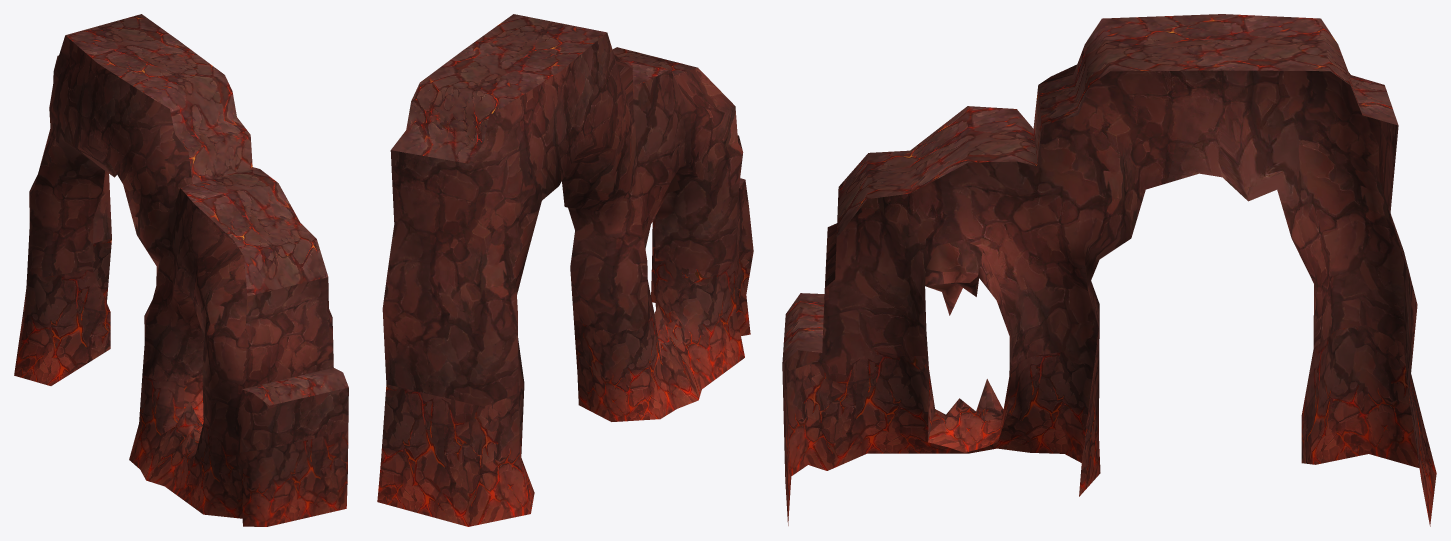
File: Dragon_Wall_02.FBX
The picture shows the model from 3 angles, left to right: view 1: azimuth 30°, elevation 25°; view 2: azimuth 150°, elevation 25°; view 3: azimuth 270°, elevation 25°; orthographic projection. The views are drawn at different scales.
Visible parts, largest first — view 1: Dragon_Wall_02_02, Dragon_Wall_02_01, Dragon_Wall_02_03; view 2: Dragon_Wall_02_02, Dragon_Wall_02_01, Dragon_Wall_02_03; view 3: Dragon_Wall_02_02, Dragon_Wall_02_01, Dragon_Wall_02_03.
Part boxes in pixels (x1,y1,x2,y2): Dragon_Wall_02_02: [27, 35, 348, 452]; Dragon_Wall_02_01: [14, 238, 348, 526]; Dragon_Wall_02_03: [58, 14, 348, 405]; Dragon_Wall_02_02: [382, 33, 753, 406]; Dragon_Wall_02_01: [377, 216, 753, 526]; Dragon_Wall_02_03: [391, 14, 745, 187]; Dragon_Wall_02_02: [782, 64, 1417, 420]; Dragon_Wall_02_01: [783, 325, 1436, 526]; Dragon_Wall_02_03: [782, 14, 1398, 363].
Bounding box in the file's own units: 9.05 × 24.64 × 31.91.
